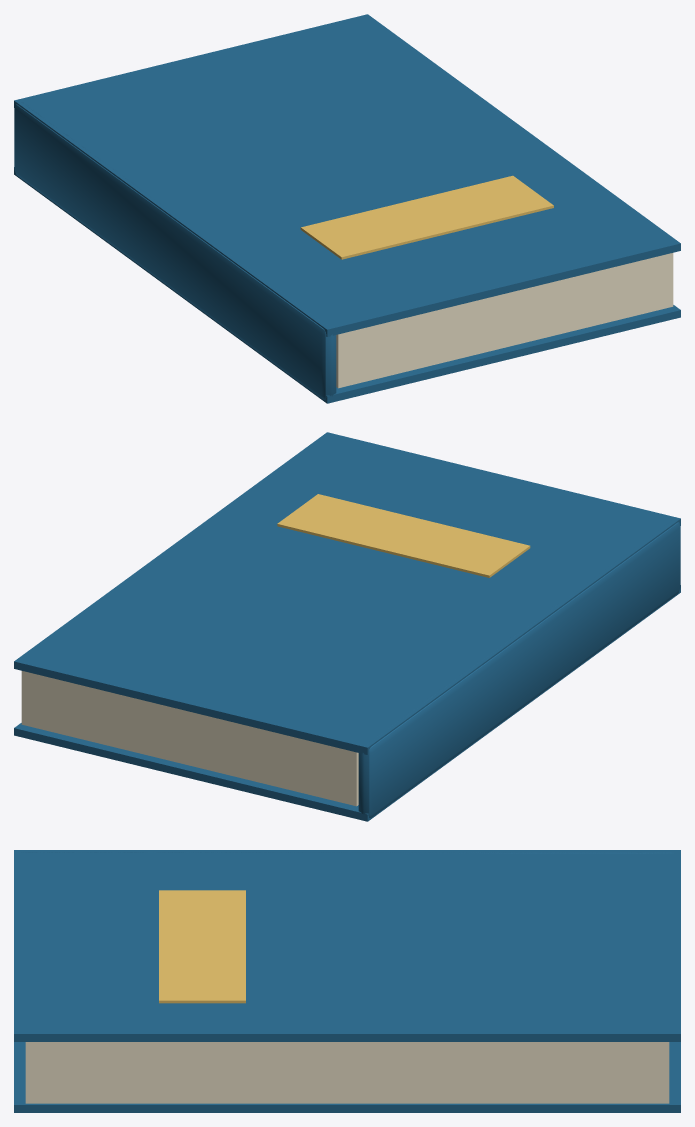
The model's file is book.glb.
3 views of the same model, one above another, from view 1: azimuth 30°, elevation 25°; view 2: azimuth 150°, elevation 25°; view 3: azimuth 270°, elevation 25° (orthographic). The views are drawn at different scales.
Visible parts, largest first — view 1: body; view 2: body; view 3: body.
Boxes of the visible parts, box(x1,y1,x2,y2) form: body: box(14, 14, 680, 403); body: box(14, 432, 680, 821); body: box(14, 850, 680, 1112).
Size of the model in its own units: 15.1 by 3.1 by 23.
